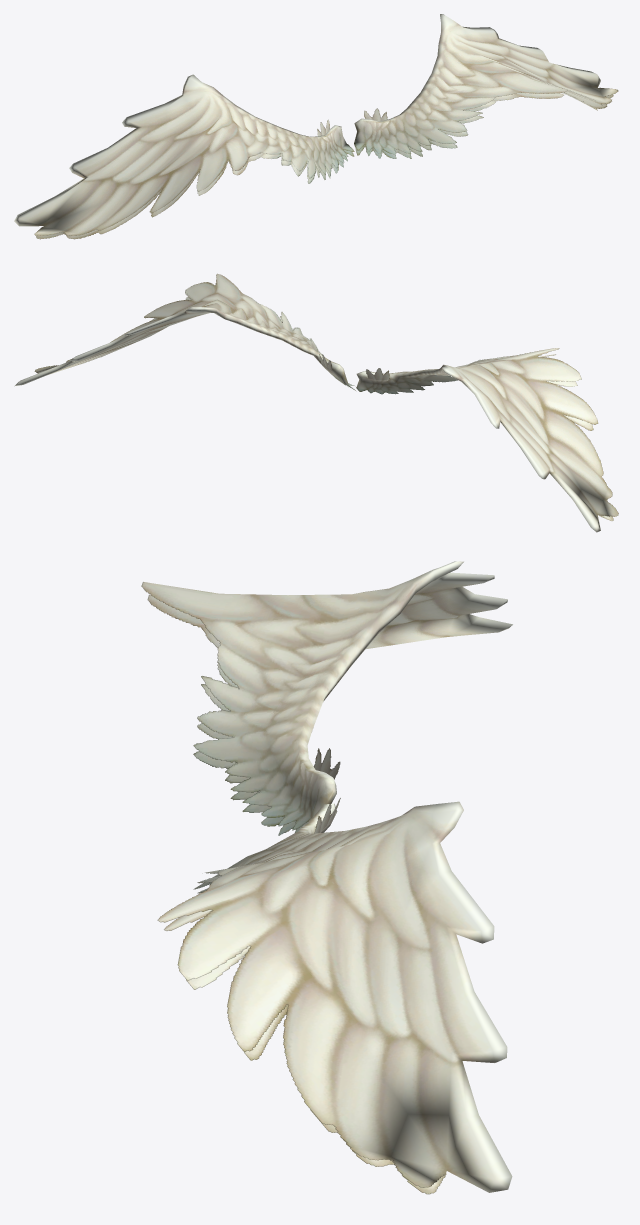
File: wing_mugroup_feather.glb
3 views of the same model, one above another, from view 1: azimuth 30°, elevation 25°; view 2: azimuth 150°, elevation 25°; view 3: azimuth 270°, elevation 25° (orthographic). The views are drawn at different scales.
Visible parts, largest first — view 1: Item_RidRidWinFeather01; view 2: Item_RidRidWinFeather01; view 3: Item_RidRidWinFeather01.
Part boxes in pixels (left/top/right/bottom): Item_RidRidWinFeather01: left=14, top=14, right=618, bottom=239; Item_RidRidWinFeather01: left=14, top=273, right=618, bottom=532; Item_RidRidWinFeather01: left=141, top=561, right=512, bottom=1194.
Size of the model in its own units: 3.22 by 0.6225 by 0.8907.
1 material, 1 textured.
